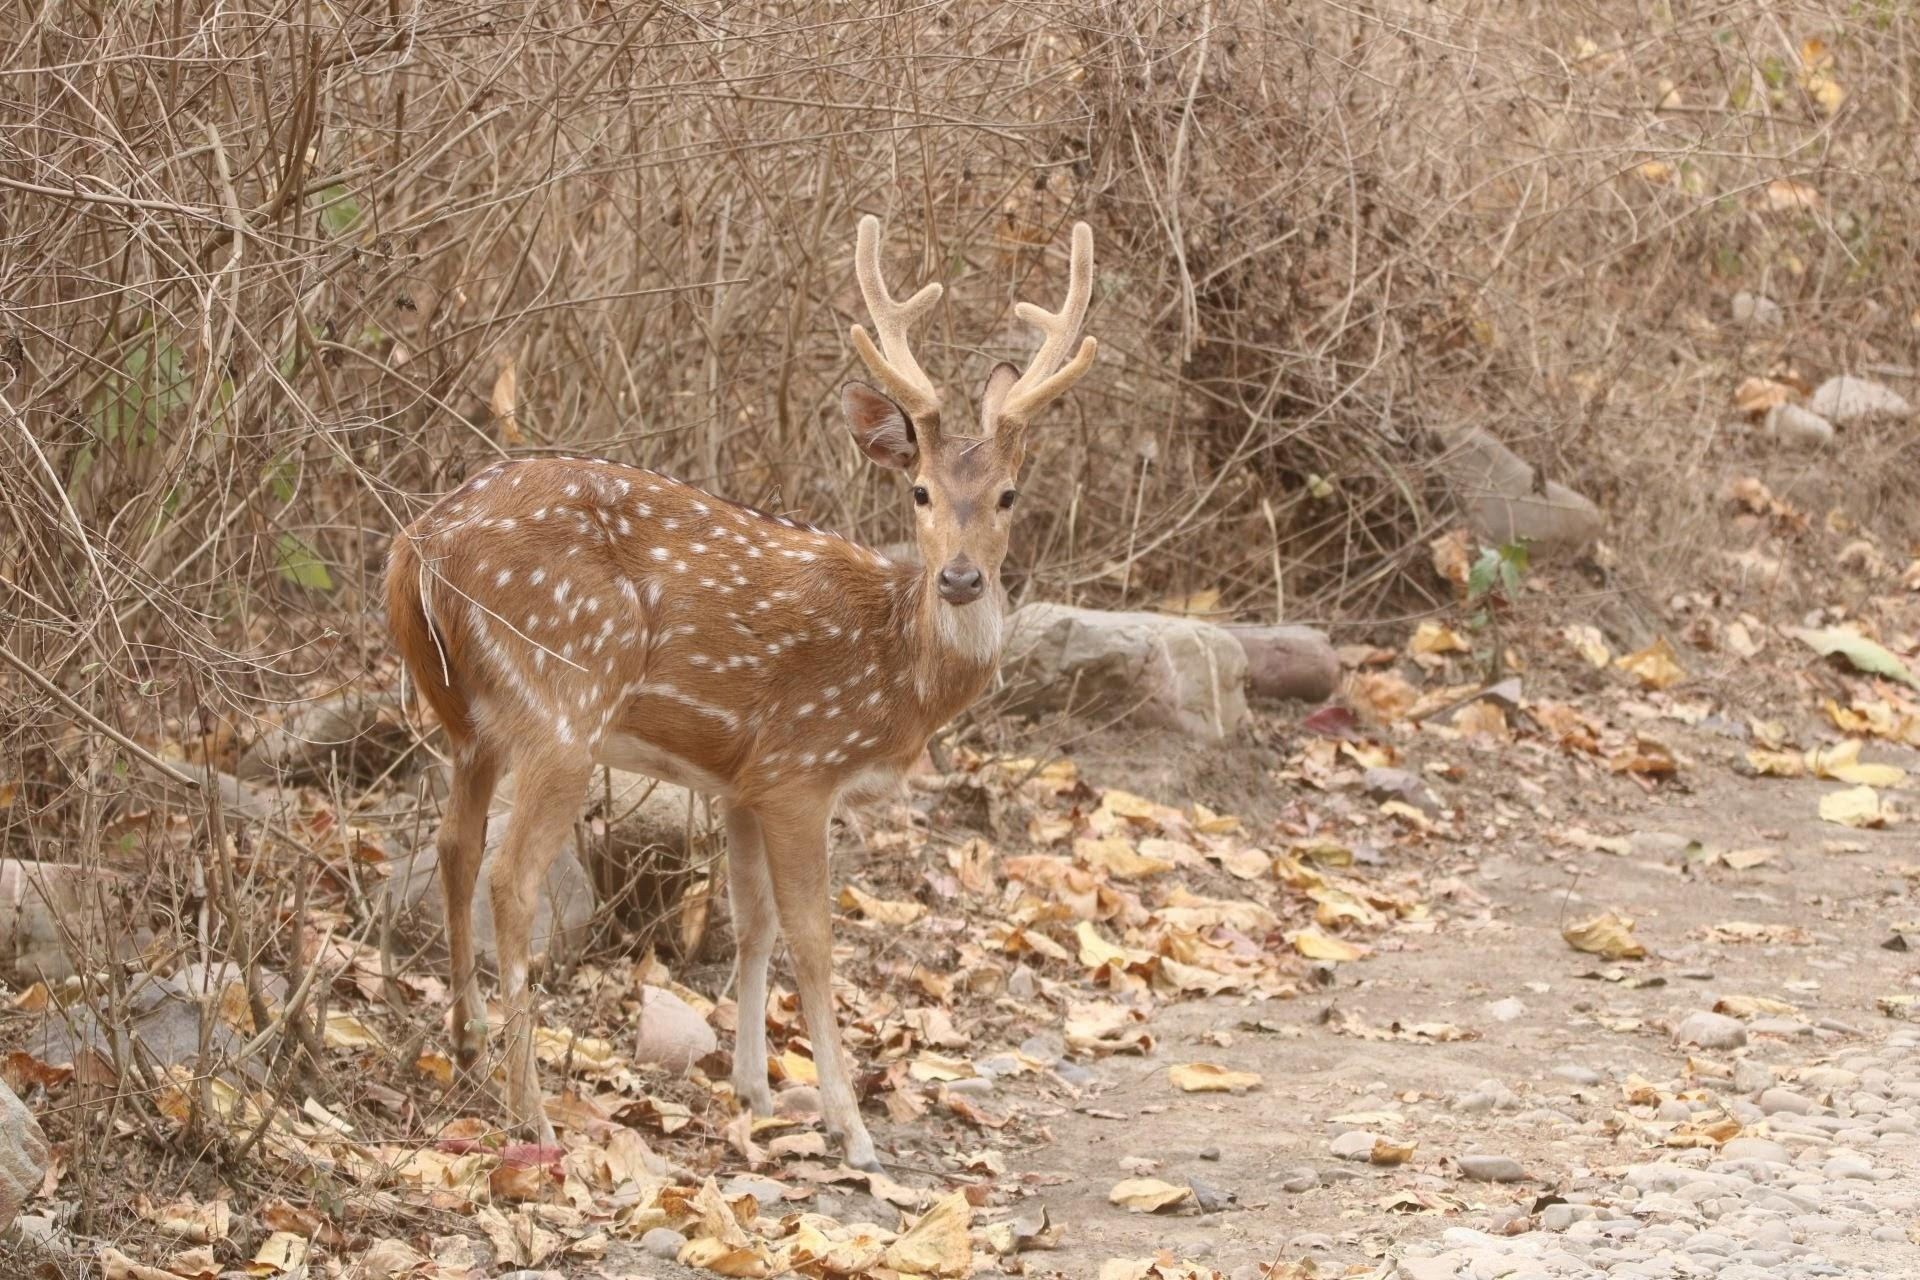Deer: (386, 217, 1096, 1169)
